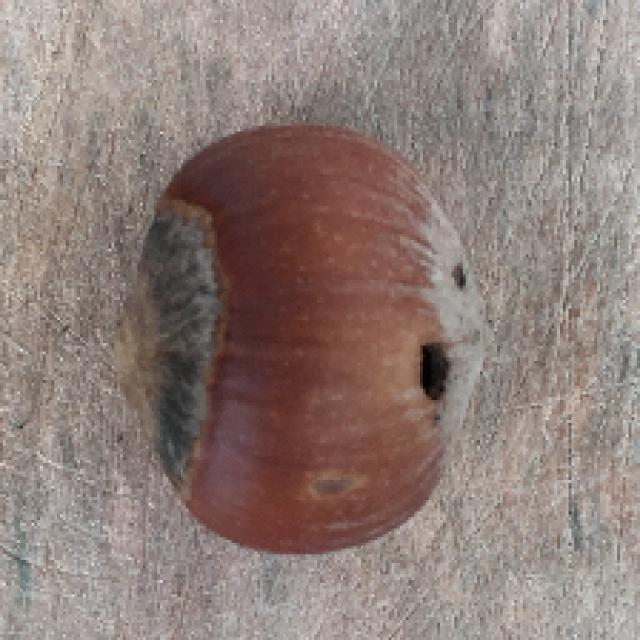damagedHazelnut: (117, 119, 490, 559)
